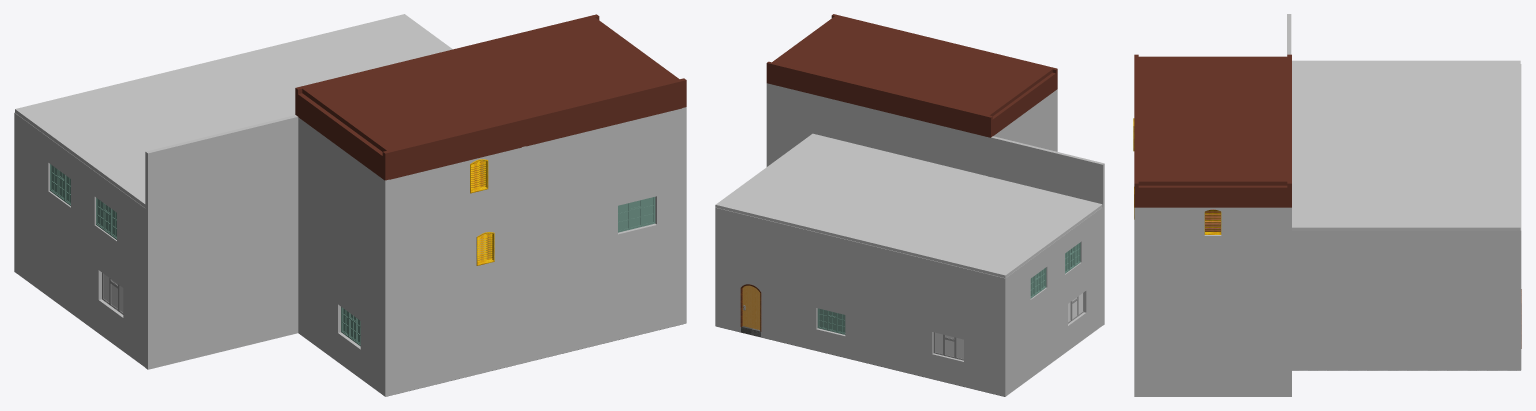
Rendered from Estrutura_Casa.fbx.
3 views of the same model, side by side, from view 1: azimuth 30°, elevation 25°; view 2: azimuth 150°, elevation 25°; view 3: azimuth 270°, elevation 25° (orthographic). The views are drawn at different scales.
Visible parts, largest first — view 1: Parede.007, Telhado, Parede.002, Telhado.002, Parede.009, Parede.005, Parede.008, Parede.006, Janela_verde.003, Janela_Cozinha.001, Janela_Madeira.002, Janela_Madeira (+2 smaller); view 2: Parede, Telhado.002, Telhado, Parede.002, Parede.005, Parede.009, Porta, Janela_Cozinha, Janela_verde.001, Janela_verde.002; view 3: Telhado.002, Parede.001, Parede.006, Telhado, Parede, Janela_Madeira.001.
Boxes of the visible parts, <box> form: Parede.007: <box>389,108,682,395</box>; Telhado: <box>295,14,686,180</box>; Parede.002: <box>145,115,298,369</box>; Telhado.002: <box>15,14,452,207</box>; Parede.009: <box>298,117,389,396</box>; Parede.005: <box>17,114,145,367</box>; Parede.008: <box>481,146,526,363</box>; Parede.006: <box>682,107,686,324</box>; Janela_verde.003: <box>618,197,655,232</box>; Janela_Cozinha.001: <box>102,272,123,314</box>; Janela_Madeira.002: <box>470,159,488,193</box>; Janela_Madeira: <box>476,232,494,265</box>; Parede: <box>715,207,1007,396</box>; Telhado.002: <box>715,133,1102,278</box>; Telhado: <box>766,14,1057,137</box>; Parede.002: <box>770,84,1104,325</box>; Parede.005: <box>1007,207,1102,395</box>; Parede.009: <box>987,89,1057,176</box>; Porta: <box>742,285,760,329</box>; Janela_Cozinha: <box>933,332,963,360</box>; Janela_verde.001: <box>817,308,845,334</box>; Janela_verde.002: <box>1030,267,1046,298</box>; Telhado.002: <box>1292,60,1520,230</box>; Parede.001: <box>1292,231,1516,370</box>; Parede.006: <box>1134,207,1291,396</box>; Telhado: <box>1134,54,1291,207</box>; Parede: <box>1517,64,1521,370</box>; Janela_Madeira.001: <box>1204,210,1221,234</box>.
Bounding box in the file's own units: 2078 × 1071 × 1764.
